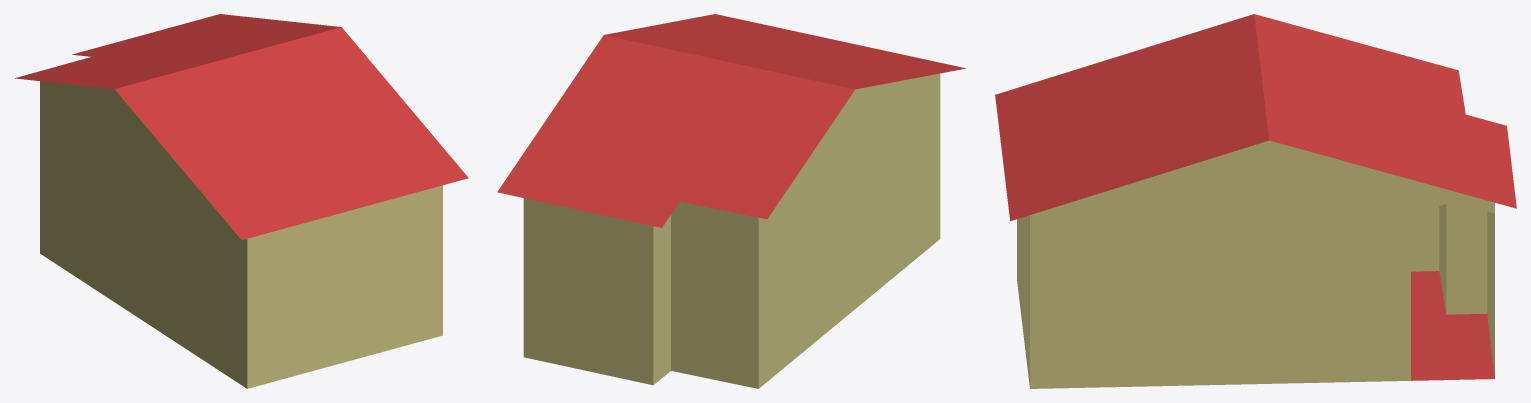
3 renders of one model, left to right at view 1: azimuth 30°, elevation 25°; view 2: azimuth 150°, elevation 25°; view 3: azimuth 270°, elevation 25°, orthographic. The views are drawn at different scales.
Bounding box in the file's own units: 11.6 × 18.75 × 10.
